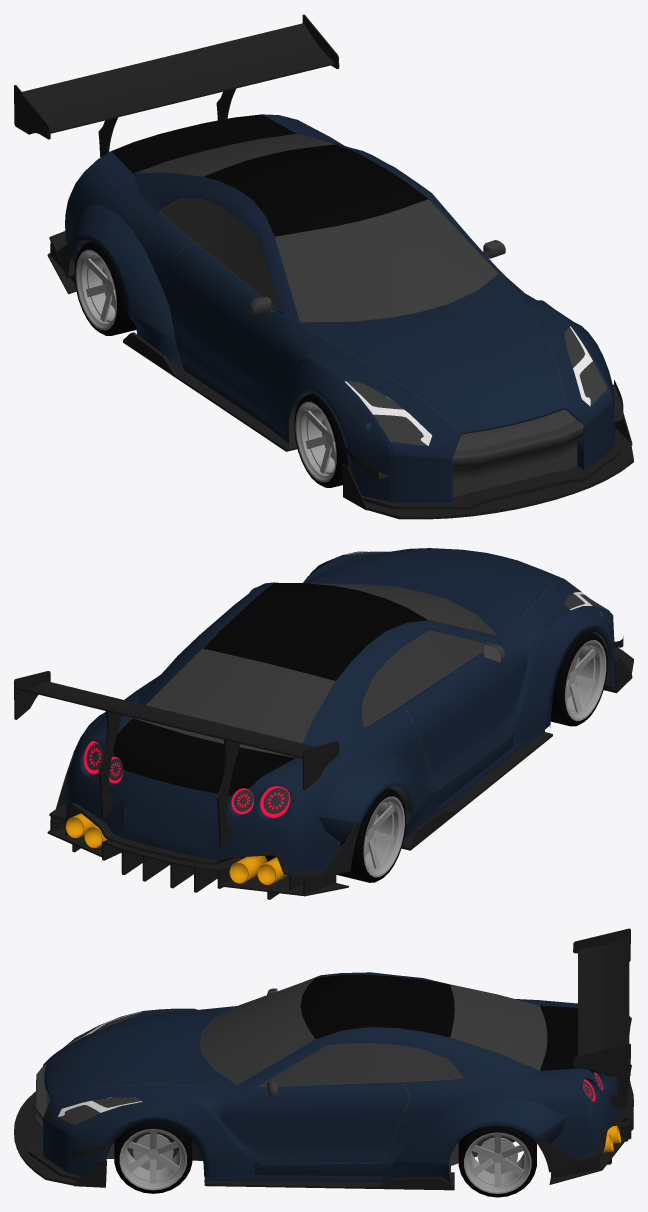
Rendered from Car 5.fbx.
3 views of the same model, one above another, from view 1: azimuth 30°, elevation 25°; view 2: azimuth 150°, elevation 25°; view 3: azimuth 270°, elevation 25° (orthographic). The views are drawn at different scales.
Visible parts, largest first — view 1: Body, Wing, Front lights, Rear Right Wheel, Front Right Wheel, Side Mirrors; view 2: Body, Wing, Front Right Wheel, Rear Right Wheel, Exhaust, Front lights; view 3: Body, Wing, Rear Left Wheel, Front Left Wheel, Front lights.
Part boxes in pixels (x1,y1,x2,y2): Body: (47, 114, 633, 519); Wing: (14, 14, 339, 157); Front lights: (344, 326, 607, 445); Rear Right Wheel: (74, 241, 136, 335); Front Right Wheel: (294, 393, 348, 487); Side Mirrors: (248, 240, 505, 314); Body: (47, 548, 633, 899); Wing: (14, 671, 339, 847); Front Right Wheel: (550, 632, 607, 726); Rear Right Wheel: (336, 788, 405, 882); Exhaust: (65, 813, 287, 885); Front lights: (345, 551, 606, 610); Body: (14, 972, 633, 1190); Wing: (573, 928, 631, 1107); Rear Left Wheel: (458, 1125, 536, 1197); Front Left Wheel: (114, 1122, 192, 1193); Front lights: (58, 1011, 142, 1125).
Size of the model in its own units: 238 by 149 by 540.
8 materials, 6 textured.
